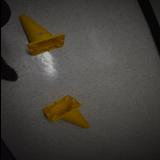cone: (17, 14, 65, 56), (42, 95, 90, 128)
